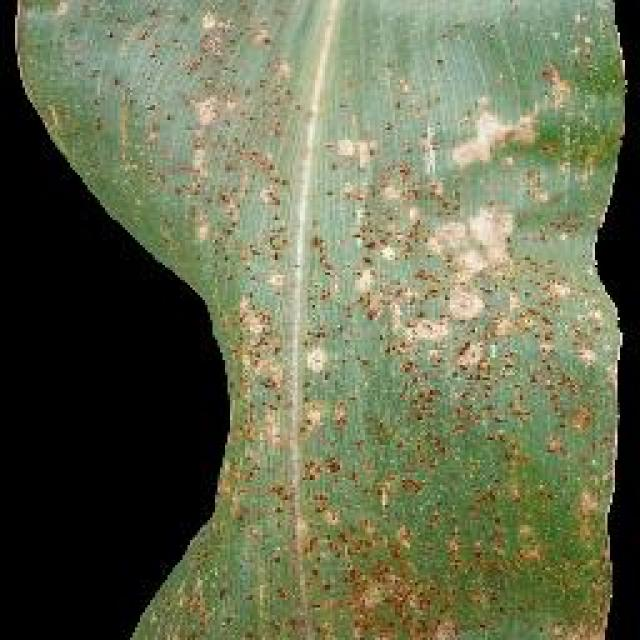Corn Common Rust: (204, 81, 594, 632)
